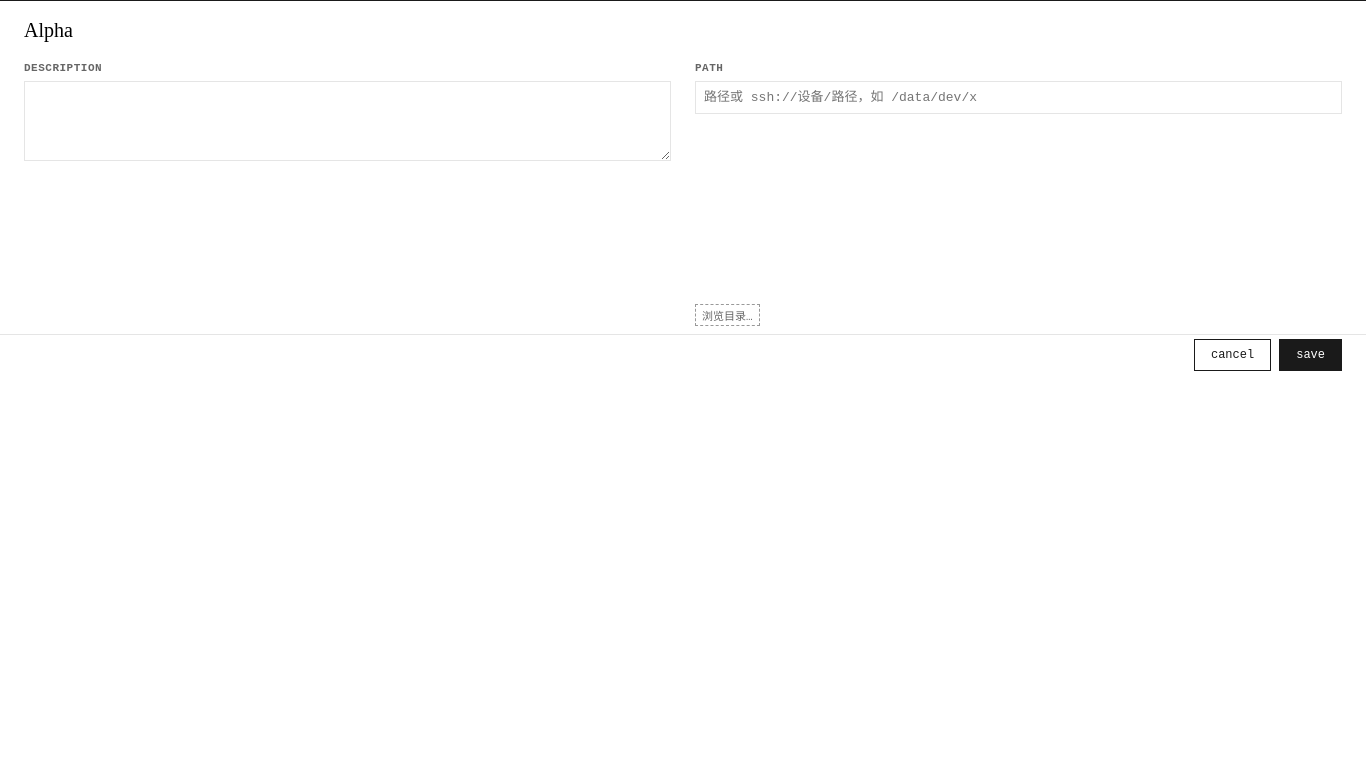
Scenario: 项目编辑面板 › 注入 listDir 后显示「浏览目录…」，展开后选中目录写回 URI 并收起
This screenshot has width=1366, height=768.
Click the button "浏览目录…" at (727, 315), box [695,304,760,326]
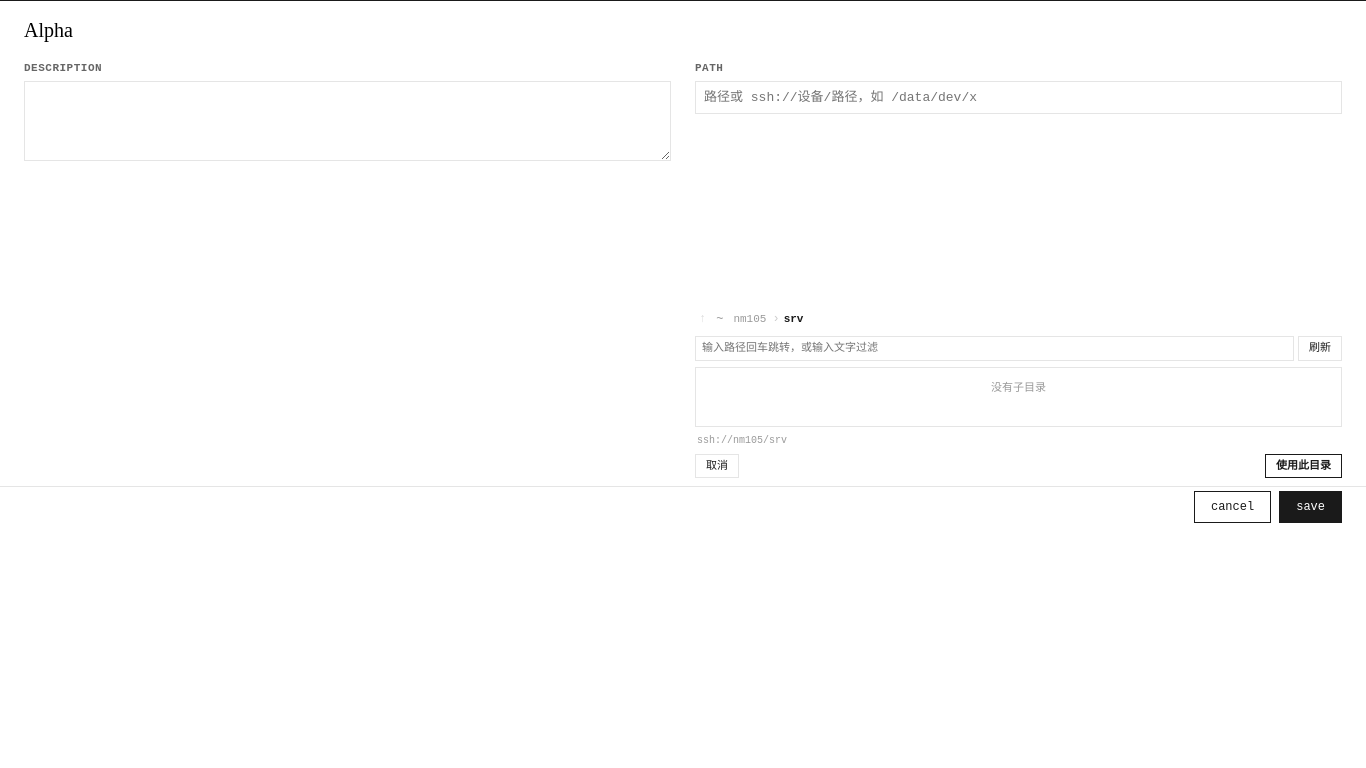
Click the button "使用此目录" at (1304, 466), box [1265,454,1342,478]
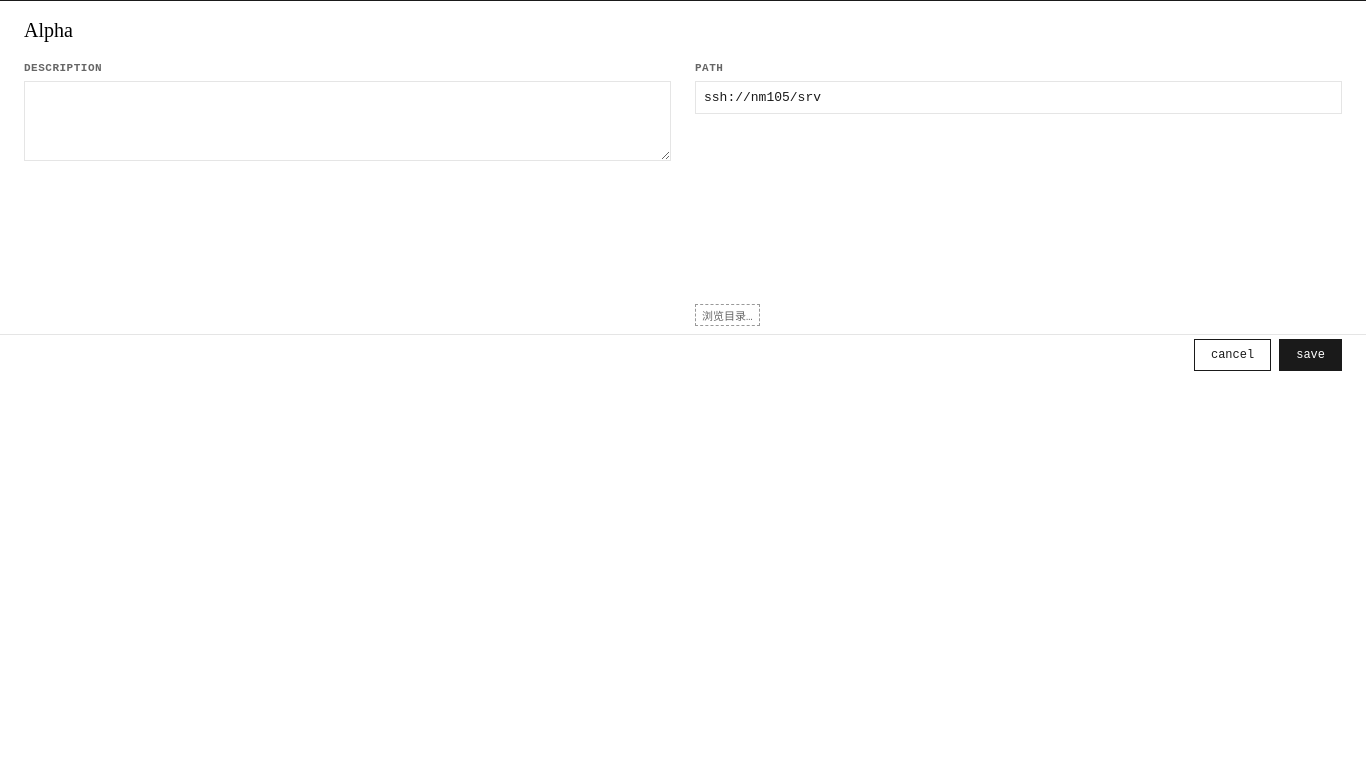
Expected: the field named "Project path" holds "ssh://nm105/srv", [695,80,1342,114]
Expected: the button "浏览目录…" is shown, [695,304,760,326]
